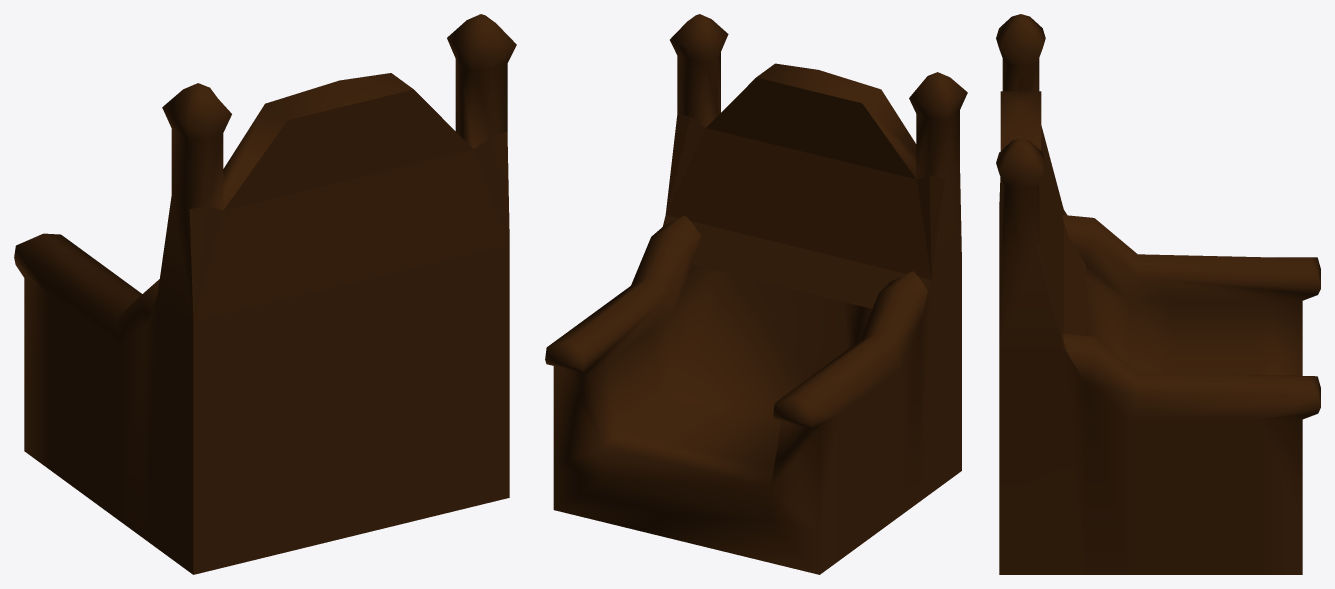
Rendered from throne.fbx.
The picture shows the model from 3 angles, left to right: view 1: azimuth 30°, elevation 25°; view 2: azimuth 150°, elevation 25°; view 3: azimuth 270°, elevation 25°; orthographic projection. The views are drawn at different scales.
Visible parts, largest first — view 1: Throne; view 2: Throne; view 3: Throne.
Boxes of the visible parts, x1,y1,x2,y2 form: Throne: (14,14,516,574); Throne: (545,14,967,574); Throne: (996,14,1320,574).
Bounding box in the file's own units: 44.91 × 62.23 × 42.64.
